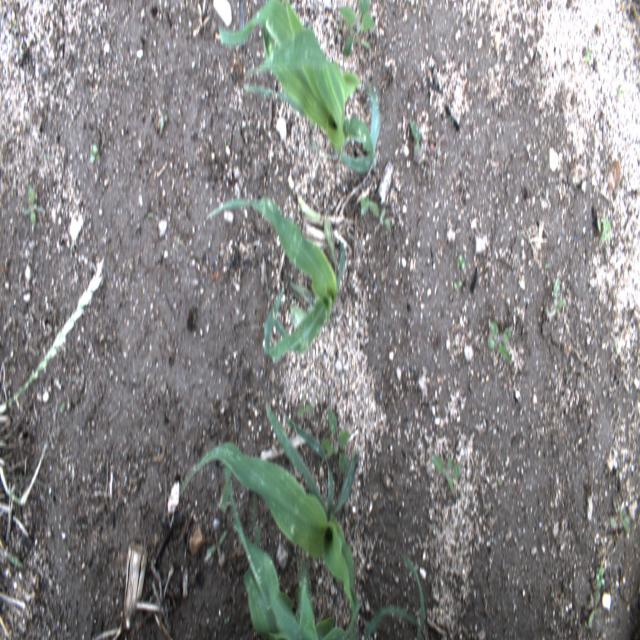crop: (180, 402, 361, 639), (218, 0, 380, 172), (207, 195, 345, 365), (217, 450, 334, 639), (364, 550, 426, 639)
weed: (0, 258, 104, 414), (0, 442, 46, 505), (320, 405, 352, 481), (339, 0, 376, 56), (428, 454, 462, 492), (487, 321, 514, 363), (359, 198, 391, 233), (608, 499, 630, 545), (23, 184, 44, 228), (548, 277, 566, 315), (206, 529, 225, 564), (587, 589, 603, 628), (0, 547, 23, 568), (408, 118, 422, 150), (597, 213, 610, 243), (296, 391, 311, 416), (594, 566, 604, 589), (90, 144, 100, 165), (584, 48, 592, 70), (457, 254, 465, 270), (453, 280, 462, 290)
